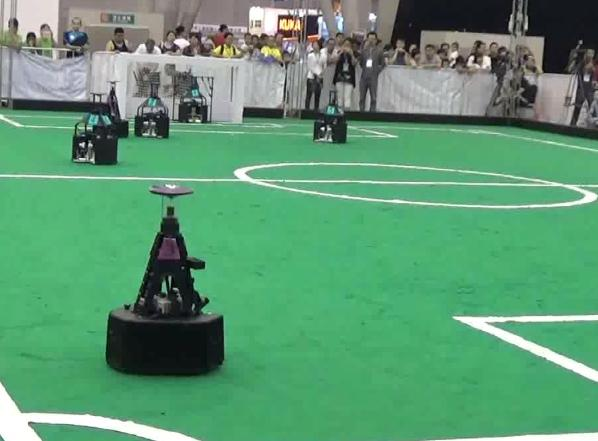robot: (104, 181, 226, 378), (71, 91, 119, 167), (133, 81, 171, 140), (313, 87, 348, 144), (176, 75, 209, 124)
